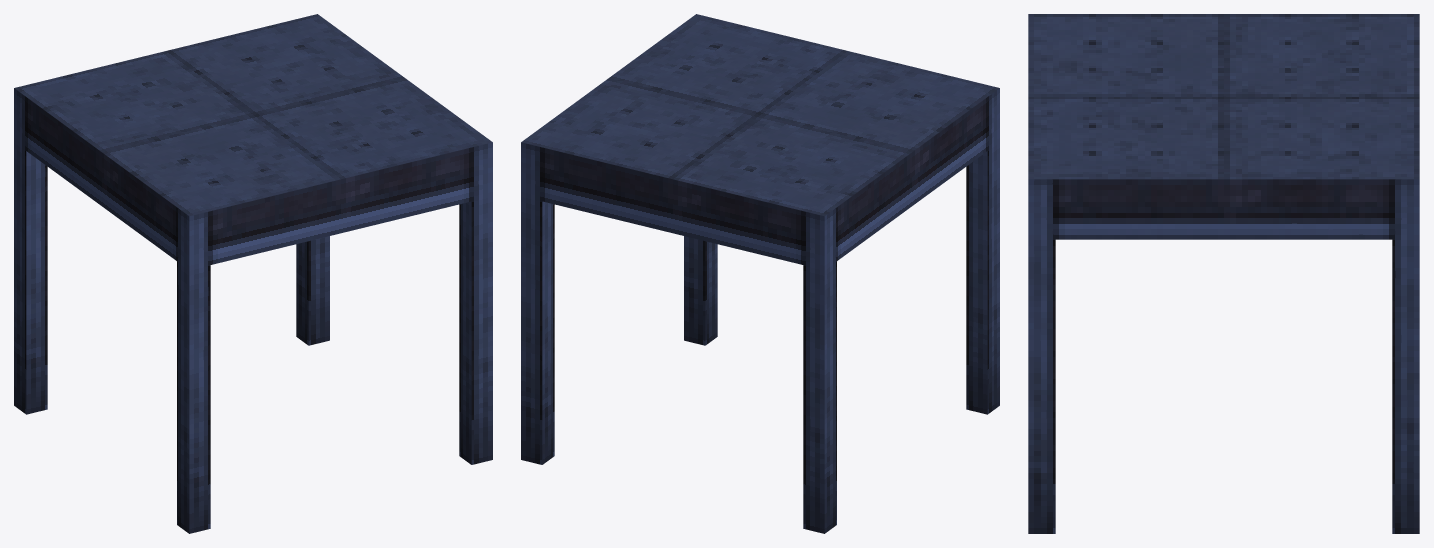
3 views of the same model, side by side, from view 1: azimuth 30°, elevation 25°; view 2: azimuth 150°, elevation 25°; view 3: azimuth 270°, elevation 25° (orthographic). The views are drawn at different scales.
Visible parts, largest first — view 1: wall-a-open; view 2: wall-a-open; view 3: wall-a-open.
Boxes of the visible parts, x1,y1,x2,y2 form: wall-a-open: (14,14,492,533); wall-a-open: (521,14,999,533); wall-a-open: (1028,14,1419,533).
Bounding box in the file's own units: 1 × 1 × 1.
2 materials, 2 textured.
